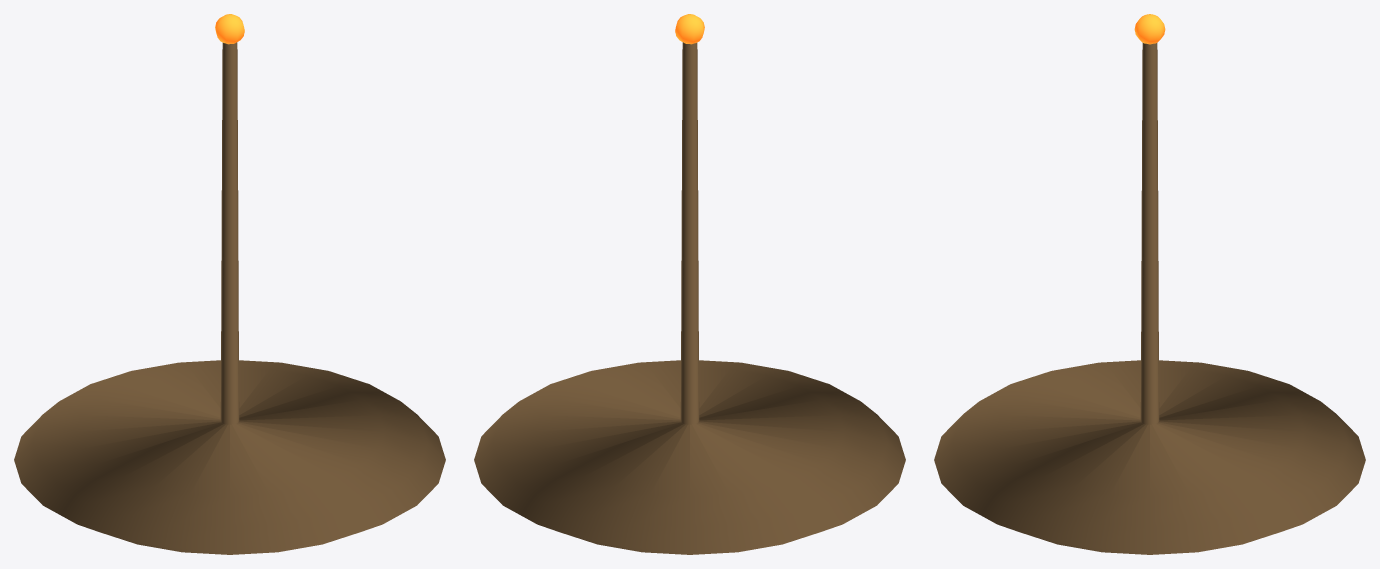
File: incense_bowl.glb
3 renders of one model, left to right at view 1: azimuth 30°, elevation 25°; view 2: azimuth 150°, elevation 25°; view 3: azimuth 270°, elevation 25°, orthographic.
Bounding box in the file's own units: 0.7 × 0.845 × 0.7.
